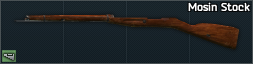Mosin rifle standard stock: (0, 0, 253, 64)
